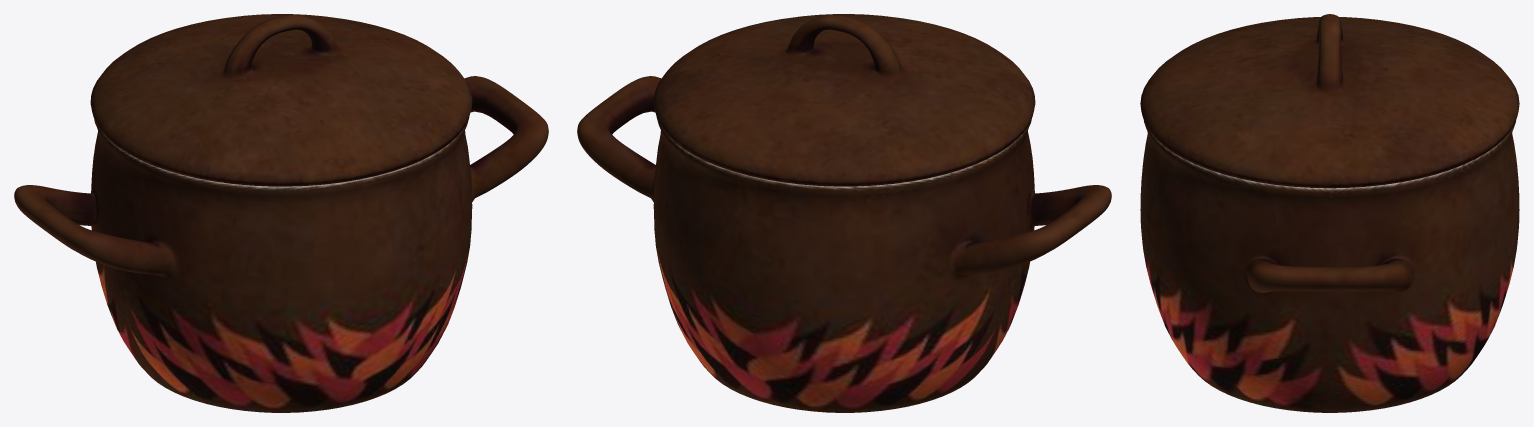
The picture shows the model from 3 angles, left to right: view 1: azimuth 30°, elevation 25°; view 2: azimuth 150°, elevation 25°; view 3: azimuth 270°, elevation 25°; orthographic projection.
Parts seen in each view (by area): view 1: pot_enamel_01_base, pot_enamel_01_lid; view 2: pot_enamel_01_base, pot_enamel_01_lid; view 3: pot_enamel_01_base, pot_enamel_01_lid.
Part boxes in pixels (x1,y1,x2,y2): pot_enamel_01_base: (14,76,548,412); pot_enamel_01_lid: (90,14,472,186); pot_enamel_01_base: (577,76,1111,412); pot_enamel_01_lid: (653,14,1035,186); pot_enamel_01_base: (1140,121,1519,412); pot_enamel_01_lid: (1140,14,1519,188).
Size of the model in its own units: 0.2629 by 0.1783 by 0.1805.
1 material, 1 textured.
